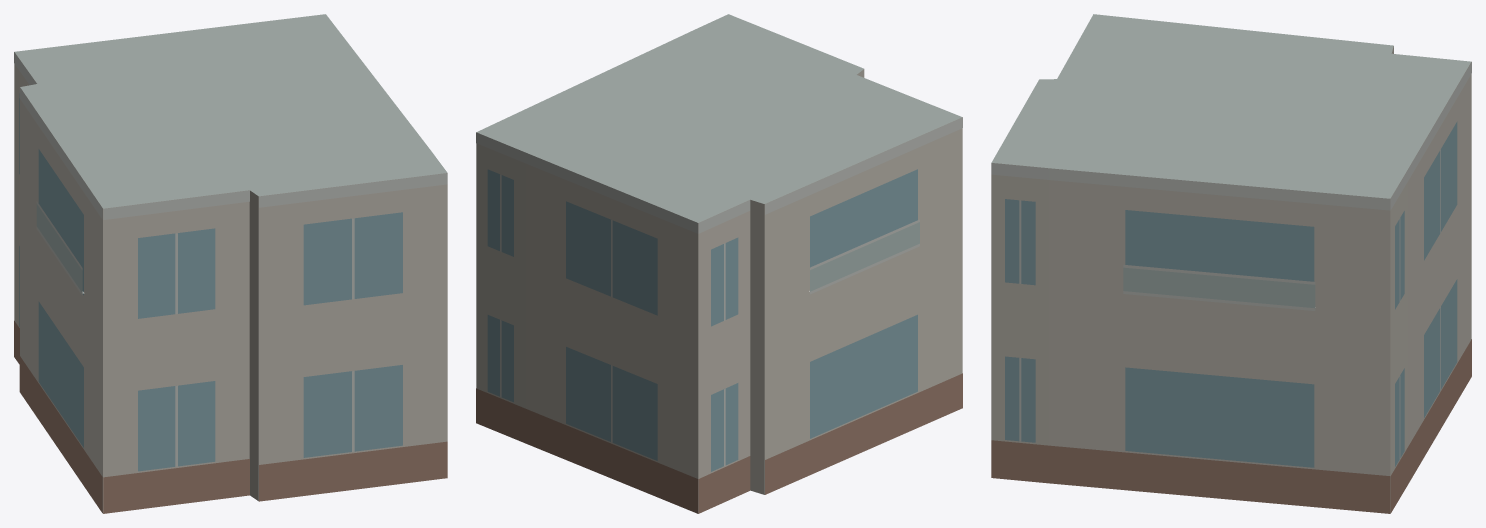
Rendered from survey-upis-33004887.glb.
3 views of the same model, side by side, from view 1: azimuth 30°, elevation 25°; view 2: azimuth 150°, elevation 25°; view 3: azimuth 270°, elevation 25° (orthographic). The views are drawn at different scales.
Parts seen in each view (by area): view 1: survey-upis-33004887.tmp; view 2: survey-upis-33004887.tmp; view 3: survey-upis-33004887.tmp.
Boxes of the visible parts, <box> form: survey-upis-33004887.tmp: <box>14,14,447,513</box>; survey-upis-33004887.tmp: <box>476,14,962,513</box>; survey-upis-33004887.tmp: <box>991,14,1471,513</box>.
Size of the model in its own units: 8.18 by 6.5 by 8.99.
